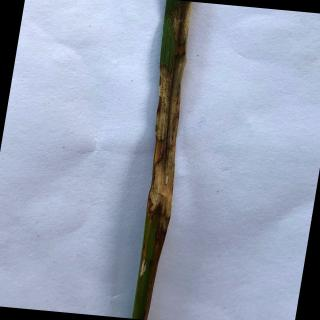Hawar-Daun: (146, 54, 190, 230), (172, 0, 190, 48), (138, 242, 152, 275)
